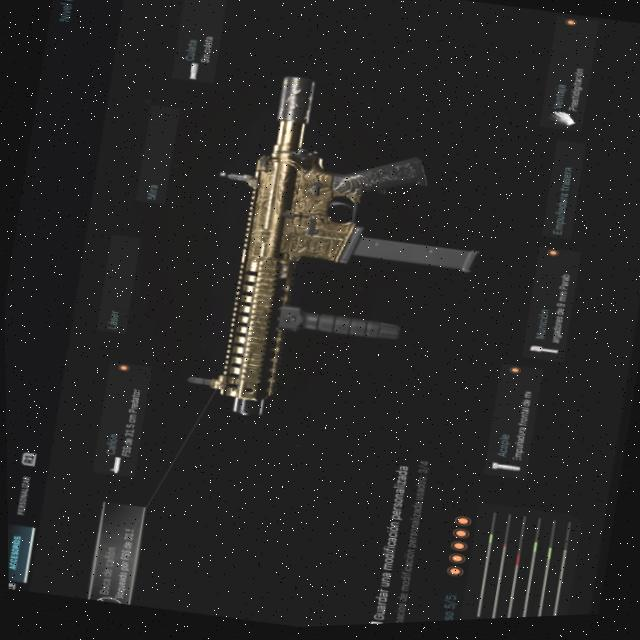firearm: (173, 60, 511, 457)
